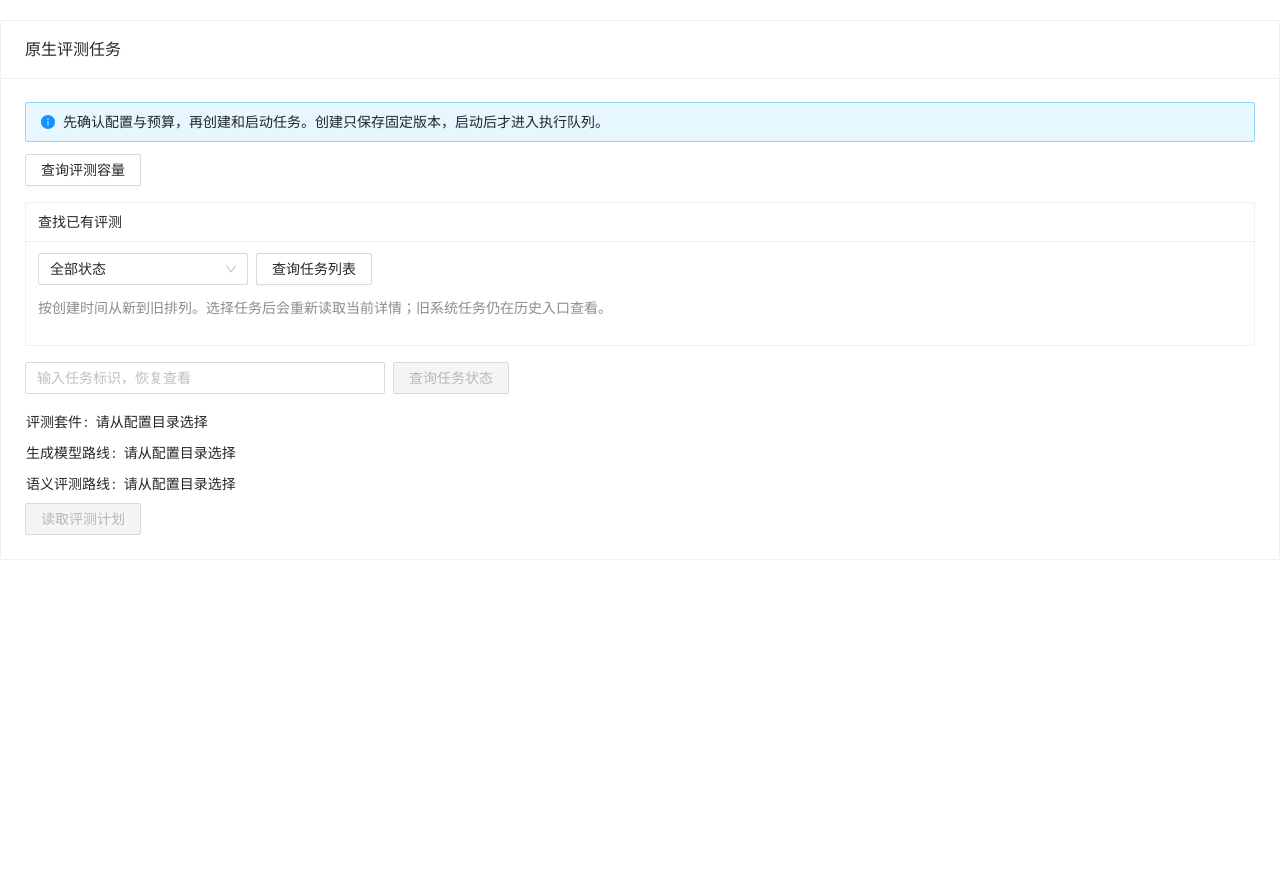
does not acknowledge inconsistent reopening evidence: missing
The width and height of the screenshot is (1280, 885).
Type "44444444-4444-4444-8444-444444444444" into the field named "评测任务标识" at x=205, y=378, box [25,362,385,394]
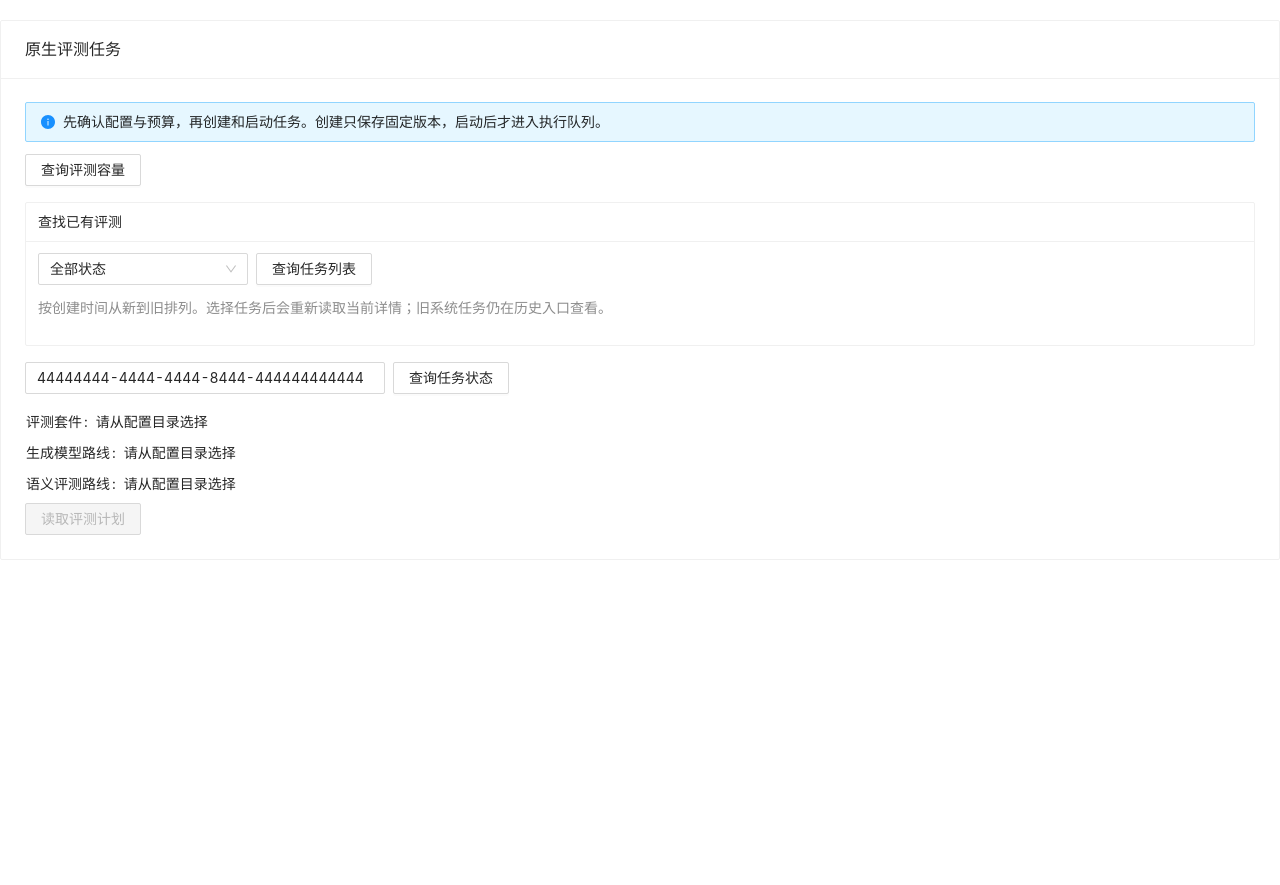
Click the button "查询任务状态" at x=451, y=378, box [393,362,509,394]
(page scrolled)
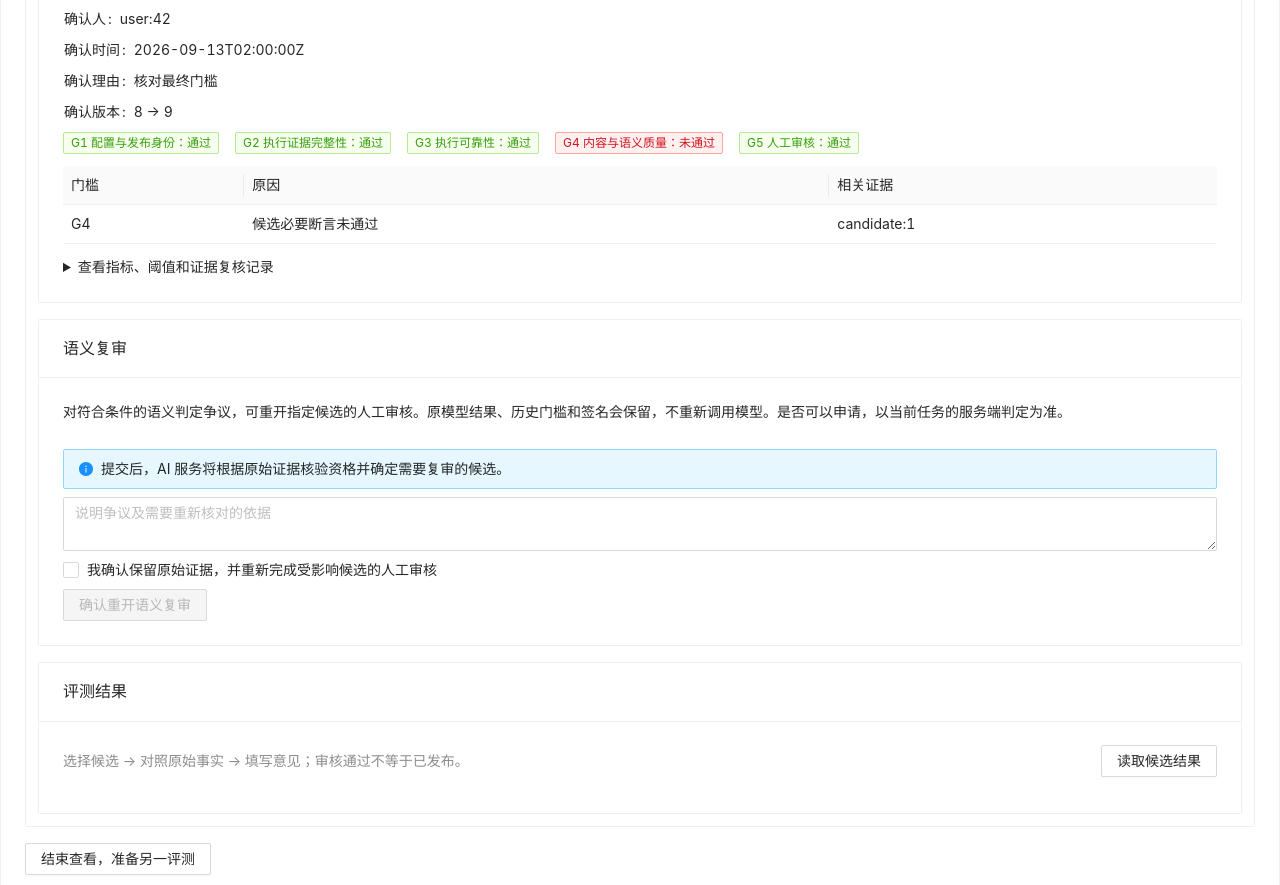
Expected: the text box named "重开复审理由" is shown
Type "  复核语义判定  " into the text box named "重开复审理由" at x=640, y=524, box [63,497,1217,551]
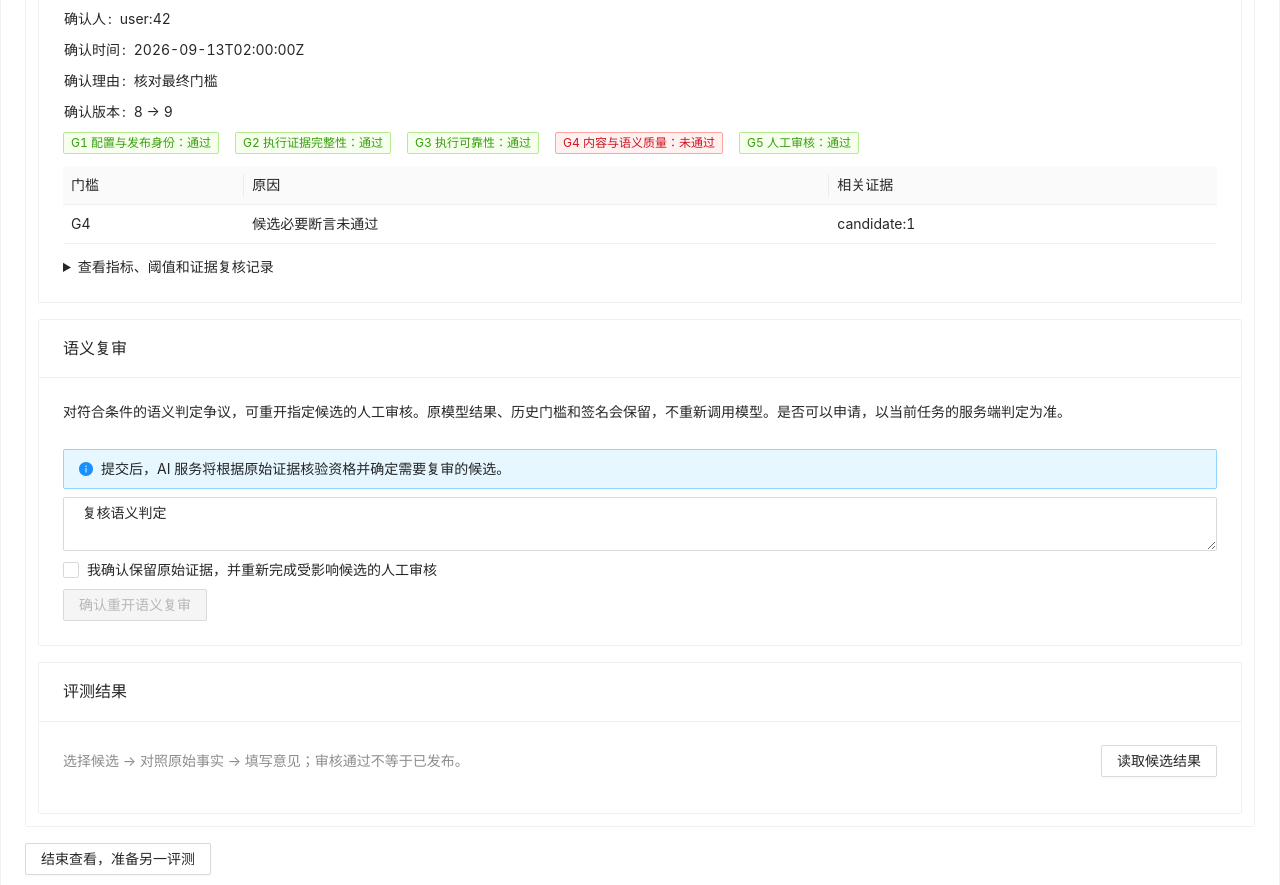
Click the checkbox labelled "我确认保留原始证据，并重新完成受影响候选的人工审核" at x=254, y=570, box [63,559,445,581]
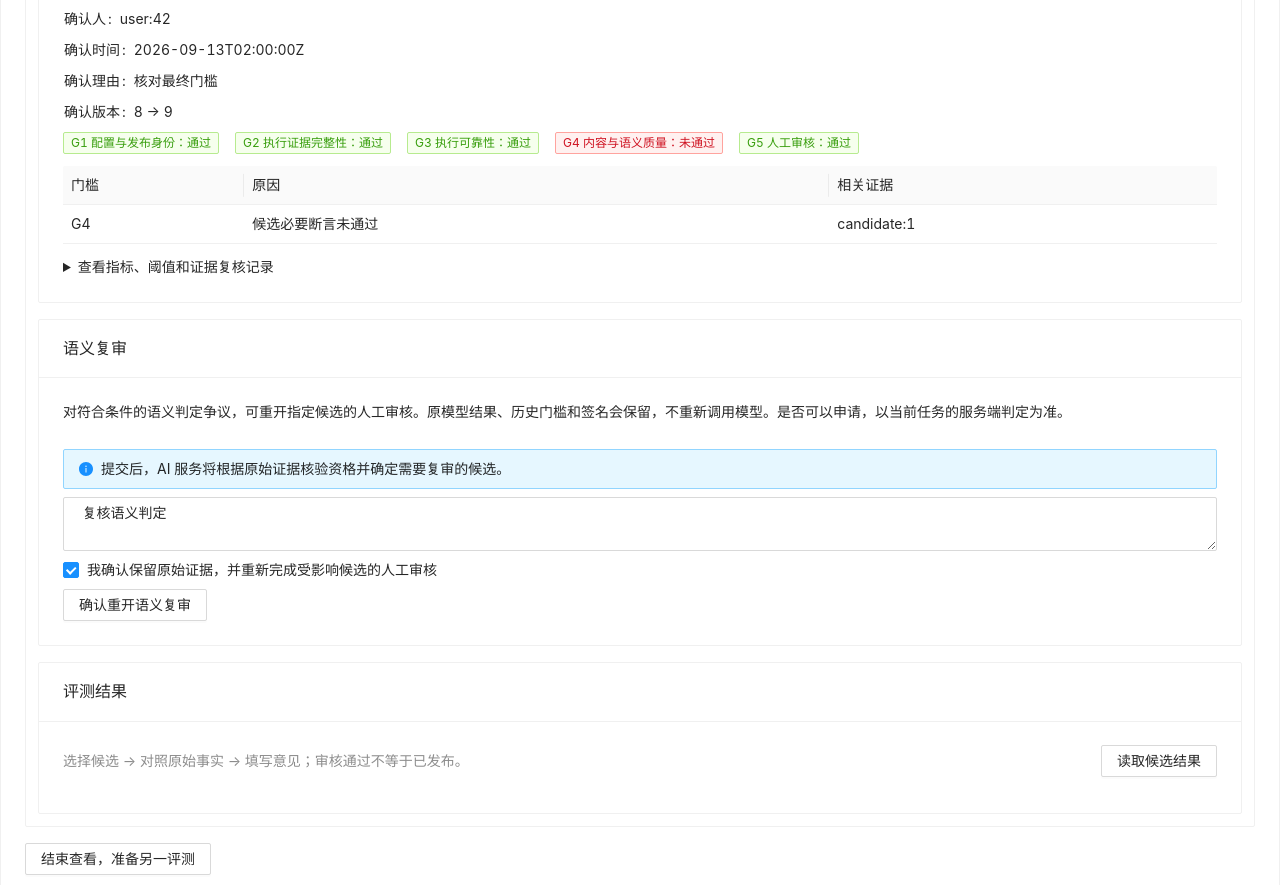
Click the button "确认重开语义复审" at x=135, y=605, box [63,589,207,621]
(page scrolled)
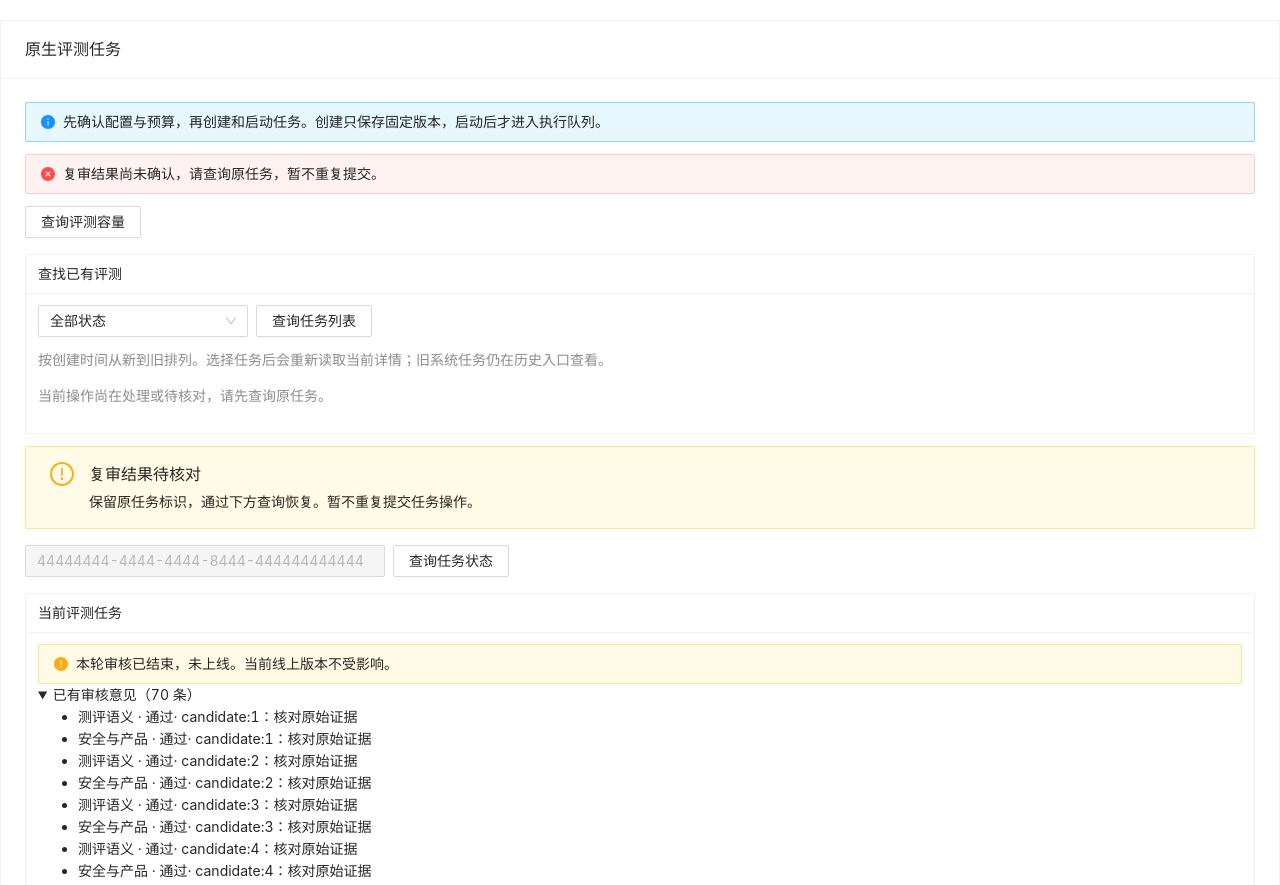
Expected: the text "复审结果尚未确认，请查询原任务，暂不重复提交。" is shown, [63,165,385,182]
